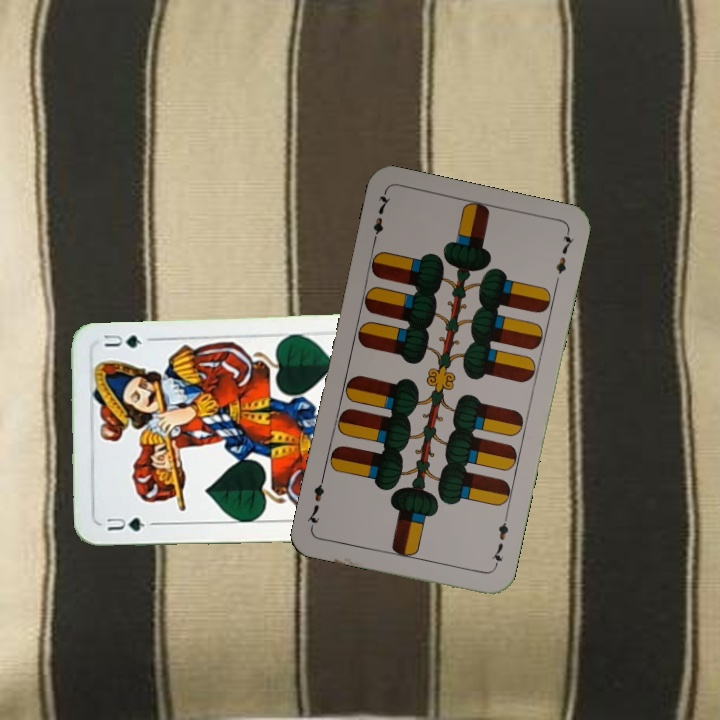E7: (368, 189, 393, 248), (487, 512, 511, 571)
GU: (102, 513, 148, 534)
